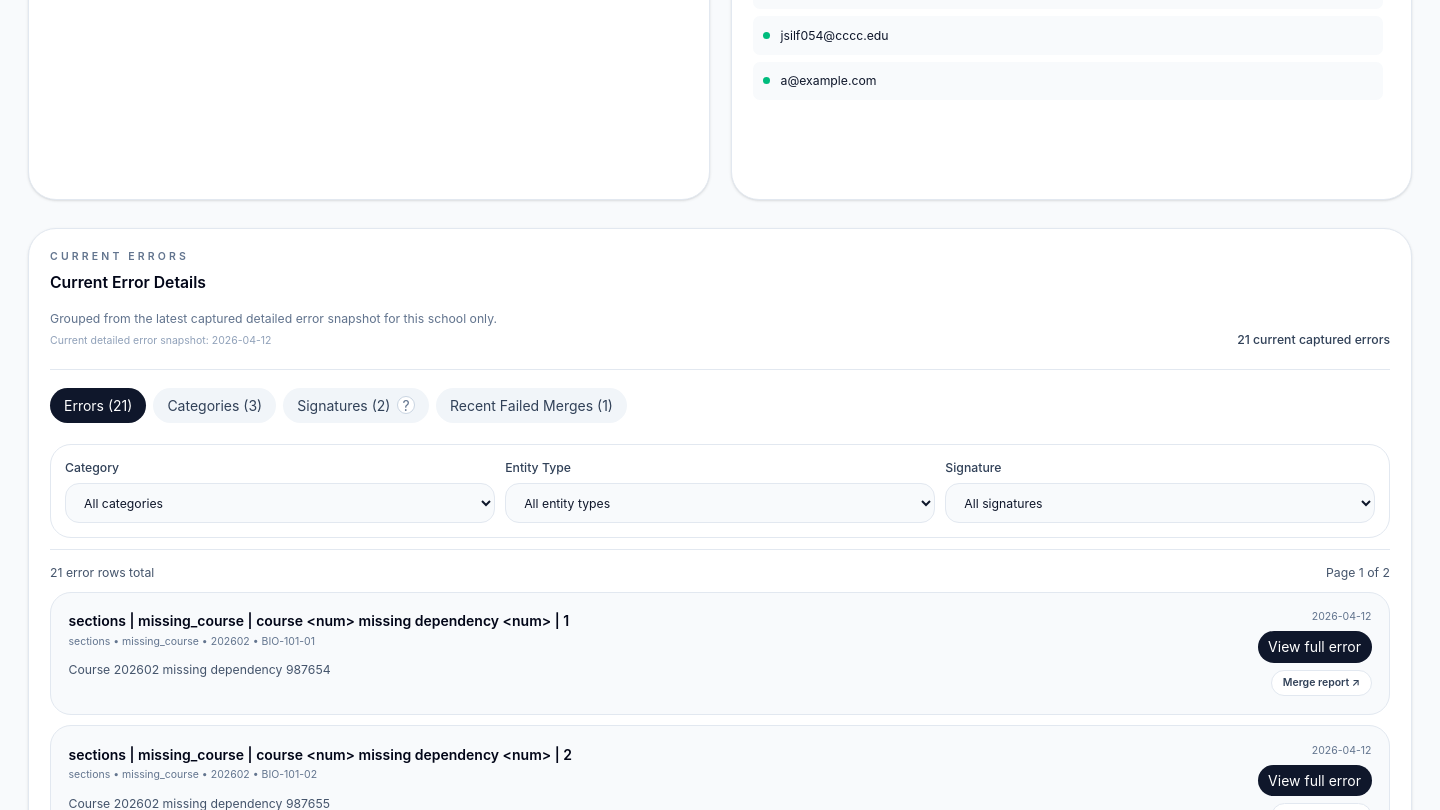
Test case: ClientHealthDetail › shows halted nightly merges in charts and recent merge details
(page scrolled)
Click the button "Recent Failed Merges (1)": click(532, 405) [436,388,627,422]
(page scrolled)
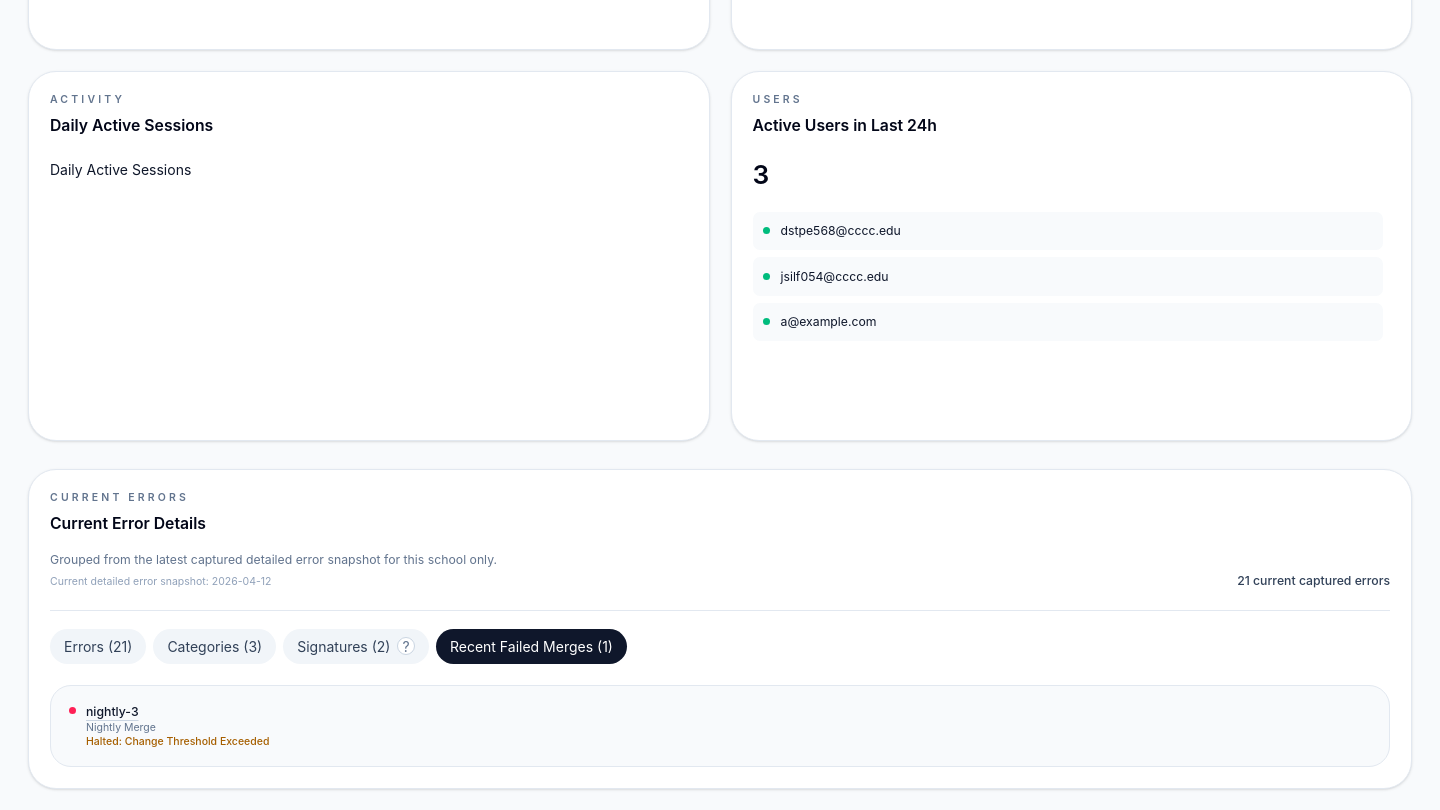
Check: the element with test id "current-error-panel-recent-failures" is shown, box [50,684,1390,767]
Check: the text "Halted: Change Threshold Exceeded" is shown, box [86,734,269,748]
